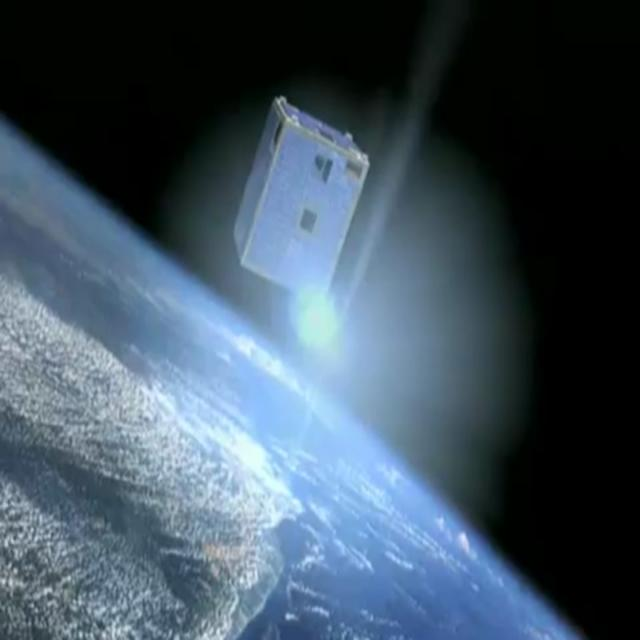medium_debris: (226, 86, 376, 354)
